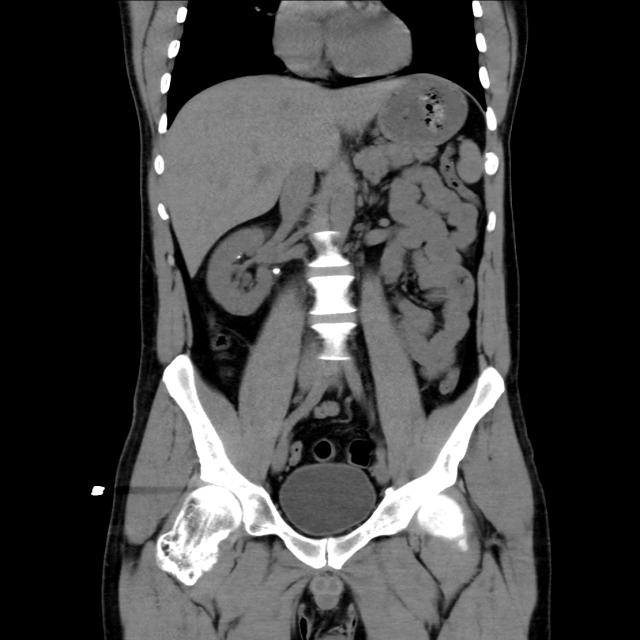kidneystone: (272, 268, 281, 275)
